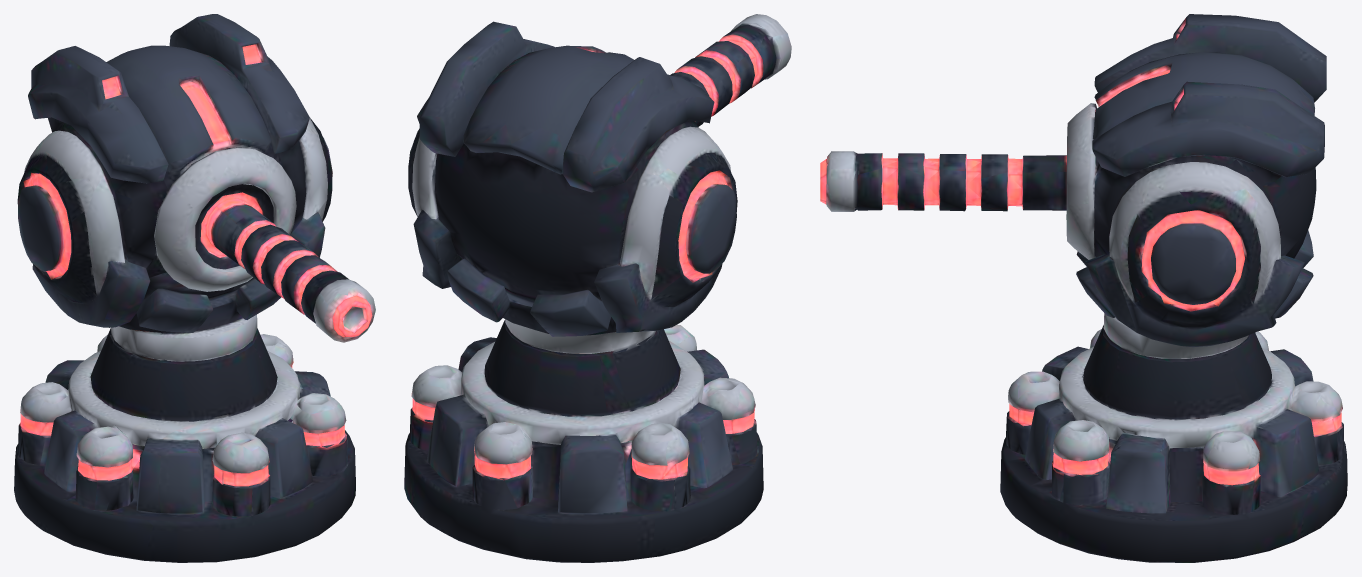
Rendered from warrior-5-tier-2.glb.
3 renders of one model, left to right at view 1: azimuth 30°, elevation 25°; view 2: azimuth 150°, elevation 25°; view 3: azimuth 270°, elevation 25°, orthographic. The views are drawn at different scales.
Parts seen in each view (by area): view 1: moving-assembly, fixed-platform; view 2: moving-assembly, fixed-platform; view 3: moving-assembly, fixed-platform.
Boxes of the visible parts, x1,y1,x2,y2 form: moving-assembly: (17, 14, 375, 364); fixed-platform: (14, 329, 355, 562); moving-assembly: (408, 14, 791, 356); fixed-platform: (404, 321, 763, 562); moving-assembly: (820, 14, 1326, 362); fixed-platform: (1000, 326, 1347, 562).
Bounding box in the file's own units: 0.5639 × 0.7812 × 0.8512.
Materials: 1 (1 with a texture image).
